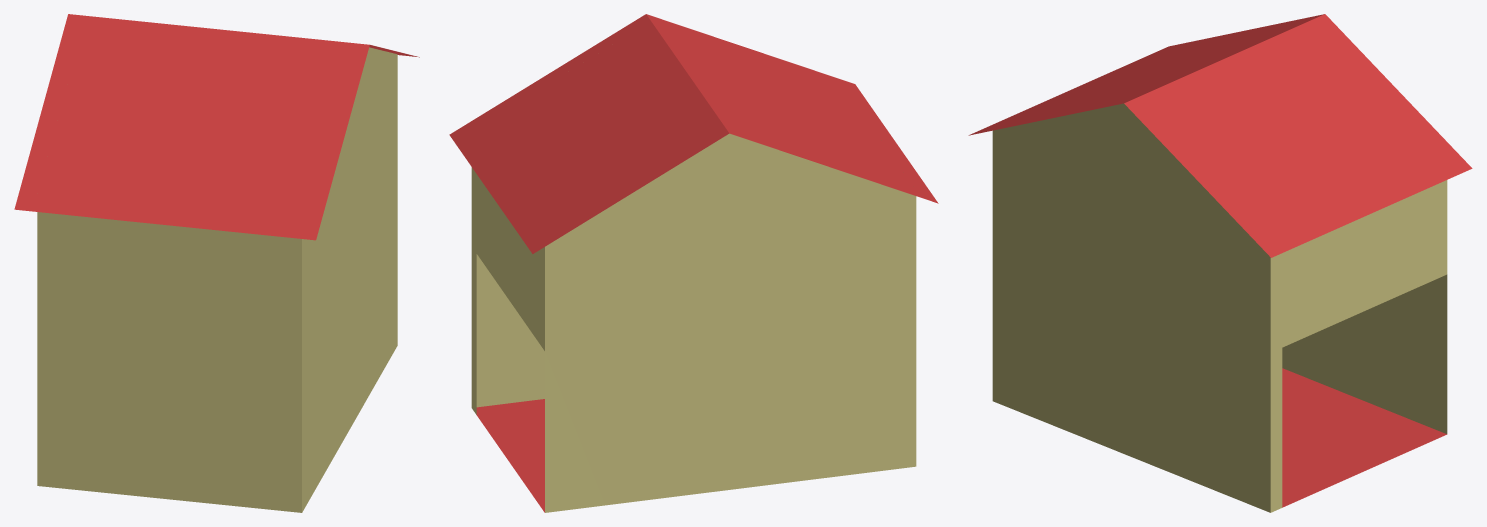
3 renders of one model, left to right at view 1: azimuth 30°, elevation 25°; view 2: azimuth 150°, elevation 25°; view 3: azimuth 270°, elevation 25°, orthographic. The views are drawn at different scales.
Bounding box in the file's own units: 14.03 × 14.16 × 11.16.
